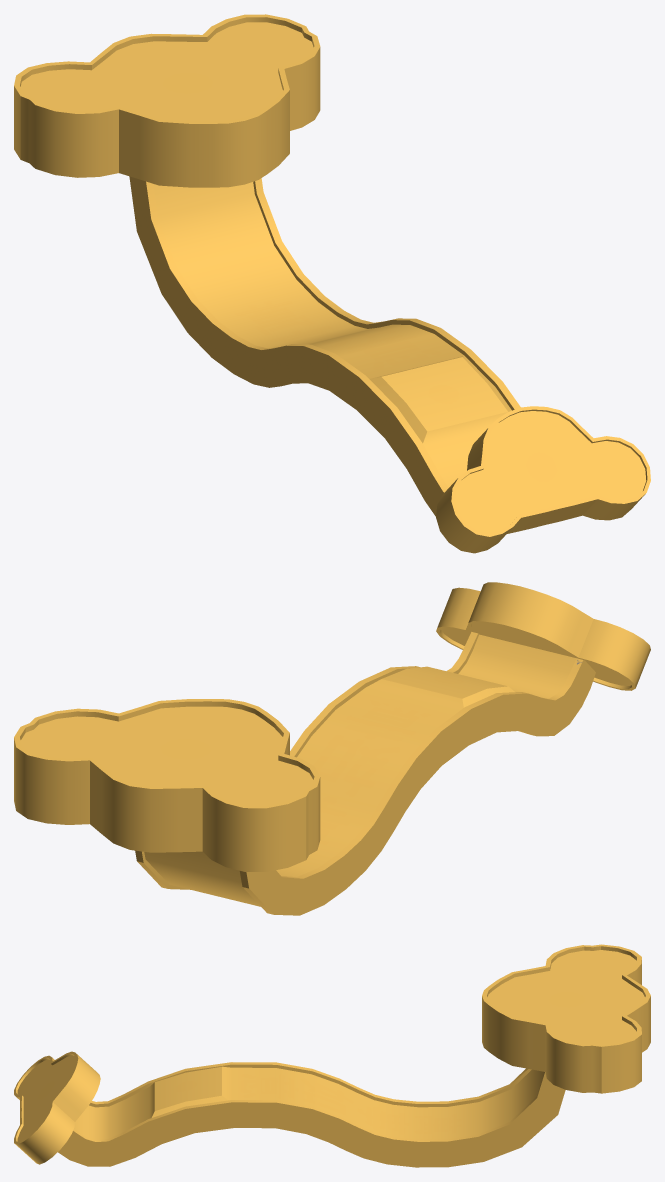
Rendered from ruyi.fbx.
3 renders of one model, top to bottom at view 1: azimuth 30°, elevation 25°; view 2: azimuth 150°, elevation 25°; view 3: azimuth 270°, elevation 25°, orthographic. The views are drawn at different scales.
Parts seen in each view (by area): view 1: pPlane1, nurbsToPoly2, nurbsToPoly1; view 2: nurbsToPoly2, pPlane1, nurbsToPoly1; view 3: pPlane1, nurbsToPoly2, nurbsToPoly1.
Boxes of the visible parts, x1,y1,x2,y2 form: pPlane1: (129,176,520,516); nurbsToPoly2: (14,14,320,187); nurbsToPoly1: (436,406,650,553); nurbsToPoly2: (14,699,320,871); pPlane1: (135,632,595,915); nurbsToPoly1: (436,582,650,690); pPlane1: (58,1062,565,1167); nurbsToPoly2: (482,944,650,1093); nurbsToPoly1: (14,1051,100,1164).
Size of the model in its own units: 17.02 by 11.76 by 44.74.
